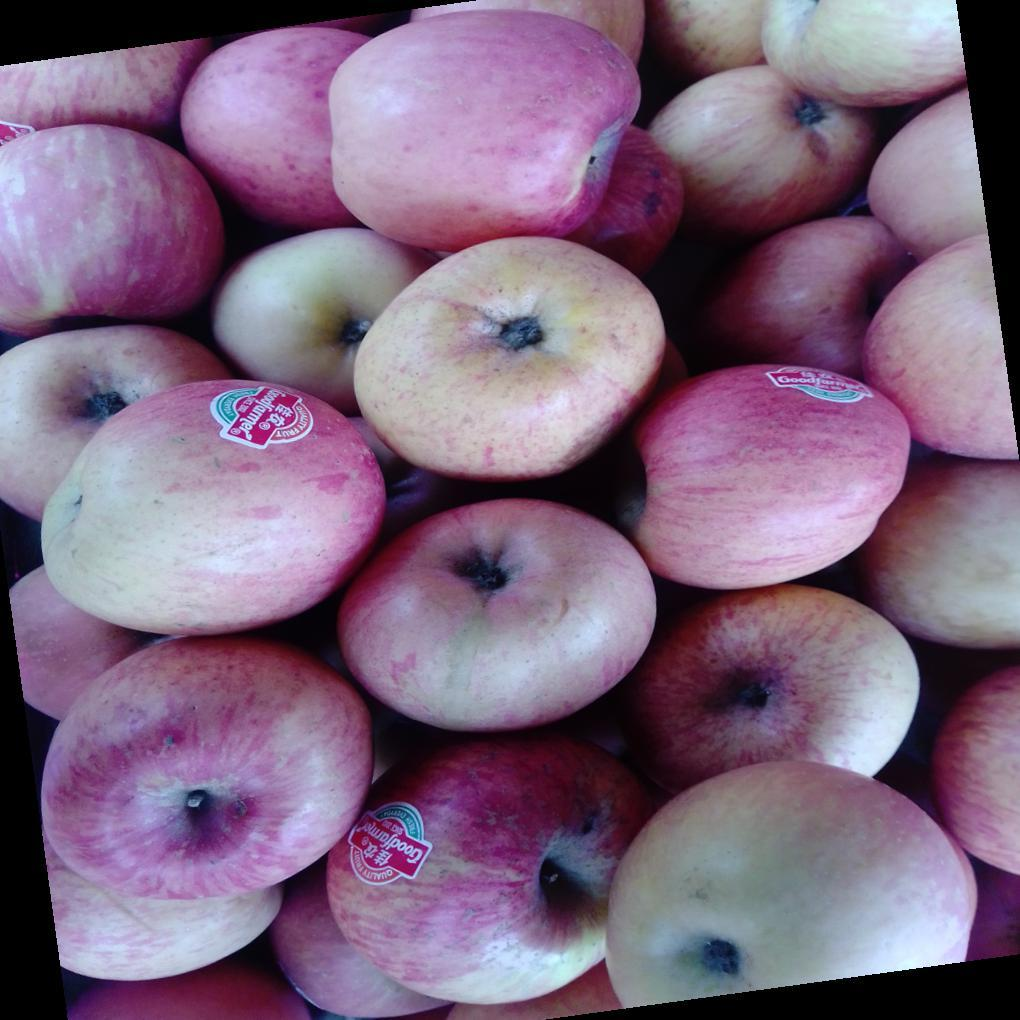FreshGuava: (6, 30, 1020, 1020)
